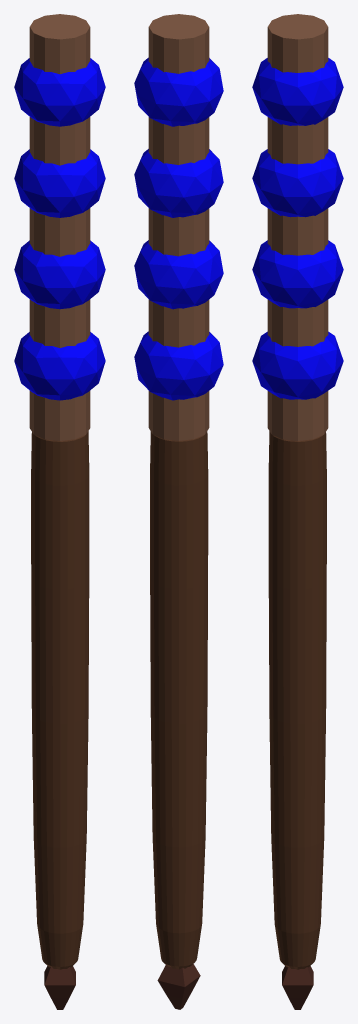
The model's file is Wand 35.glb.
3 renders of one model, left to right at view 1: azimuth 90°, elevation 25°; view 2: azimuth 150°, elevation 25°; view 3: azimuth 270°, elevation 25°, orthographic.
Visible parts, largest first — view 1: GeneratedWand; view 2: GeneratedWand; view 3: GeneratedWand.
Part boxes in pixels (x1,y1,x2,y2): GeneratedWand: (14, 14, 105, 1009); GeneratedWand: (134, 14, 223, 1009); GeneratedWand: (252, 14, 343, 1009).
Size of the model in its own units: 0.0407 by 0.5075 by 0.0428.
